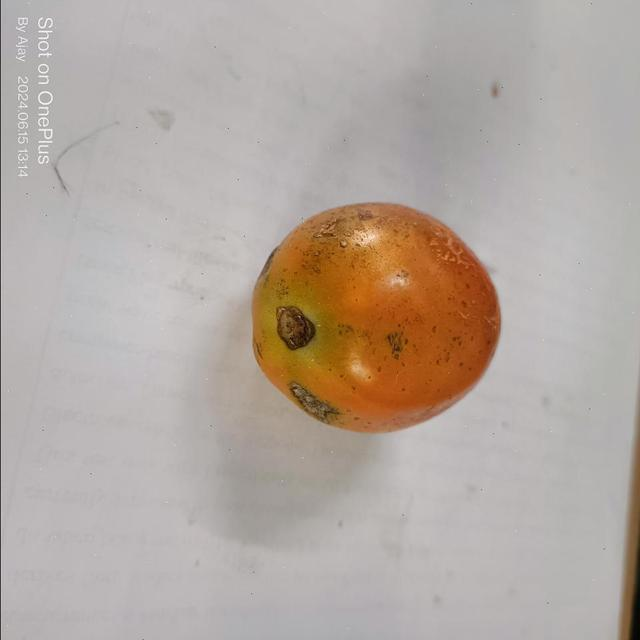Bacterial Spot Fruit: (21, 28, 265, 267)
